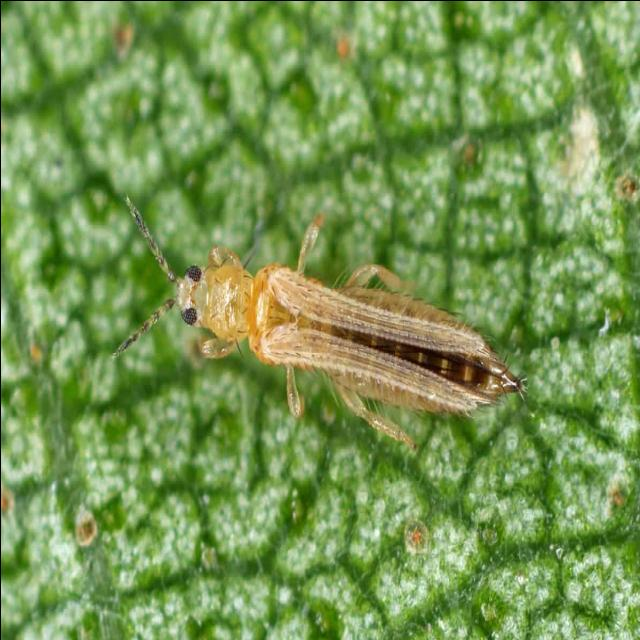thrip: (100, 160, 530, 442)
